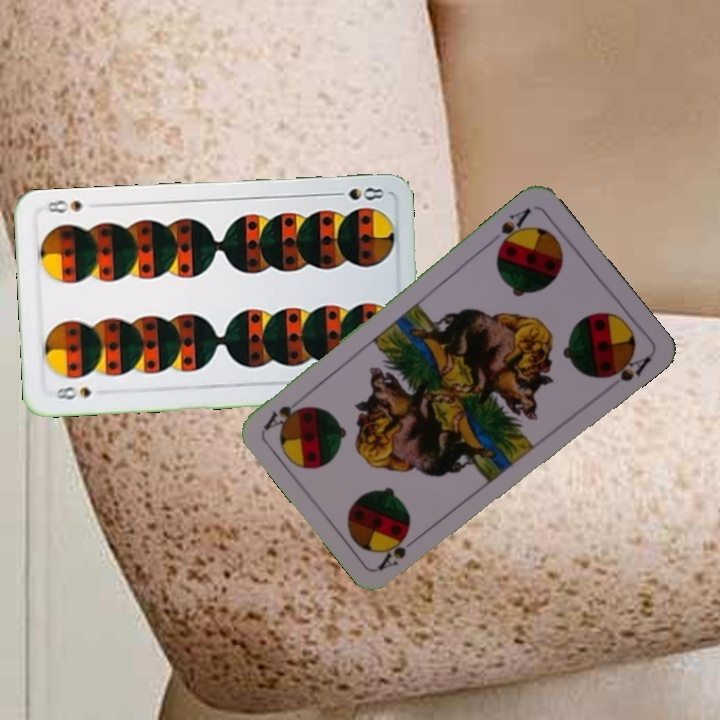S8: (328, 183, 387, 203), (52, 382, 94, 402)
SA: (375, 530, 425, 572), (493, 204, 534, 253)
